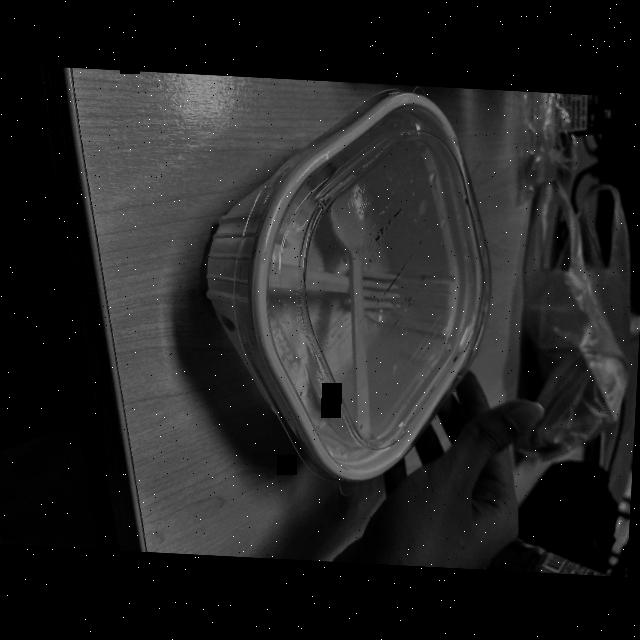plastic_box: (186, 74, 504, 498)
